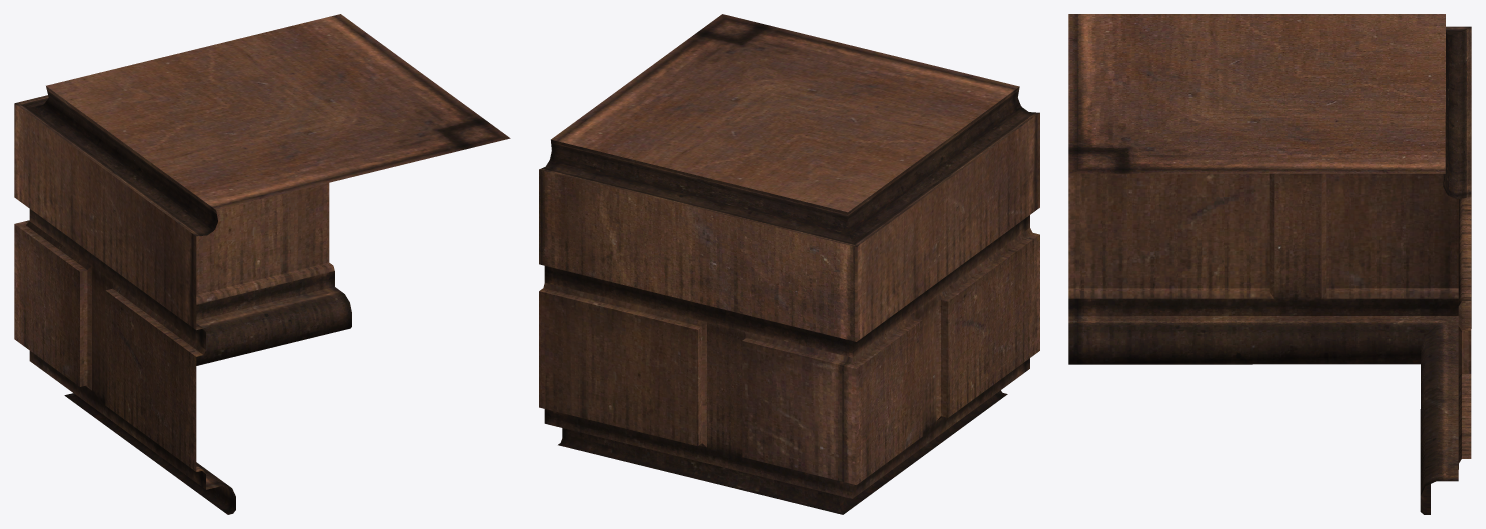
Rendered from corner_concave03_short.dae.
3 views of the same model, side by side, from view 1: azimuth 30°, elevation 25°; view 2: azimuth 150°, elevation 25°; view 3: azimuth 270°, elevation 25° (orthographic). The views are drawn at different scales.
Visible parts, largest first — view 1: corner_concave_short; view 2: corner_concave_short; view 3: corner_concave_short.
Boxes of the visible parts, left/top/right/bottom form: corner_concave_short: left=14, top=14, right=510, bottom=514; corner_concave_short: left=539, top=14, right=1039, bottom=514; corner_concave_short: left=1068, top=14, right=1471, bottom=514.
Bounding box in the file's own units: 2 × 1.87 × 2.
1 material, 1 textured.
